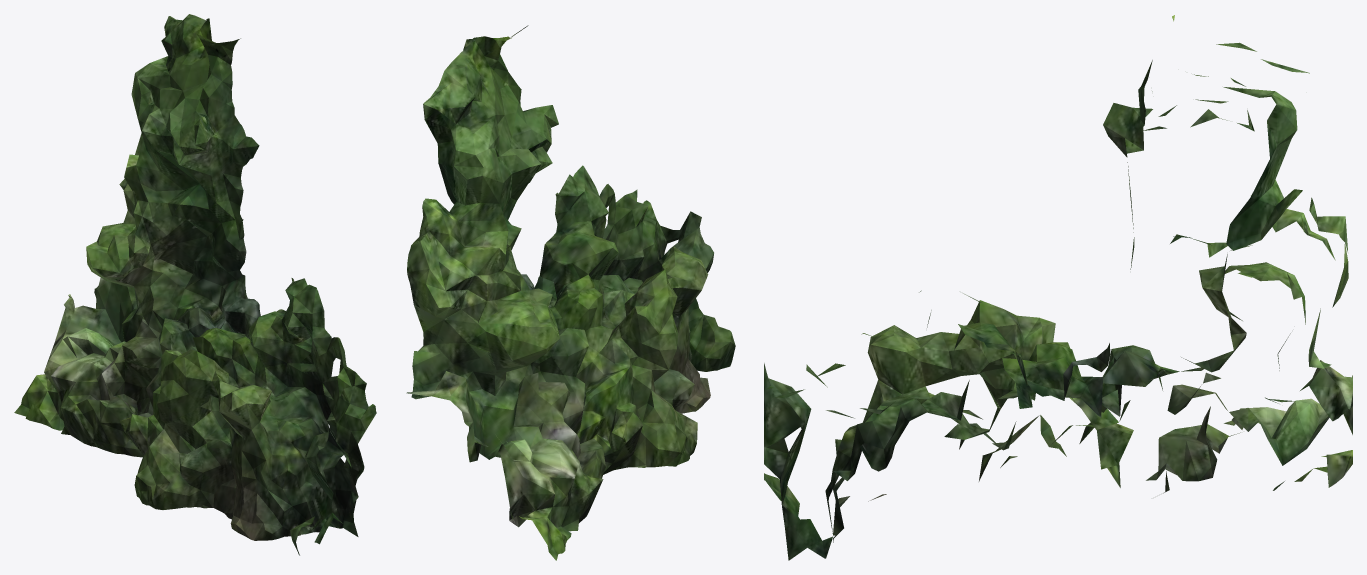
3 renders of one model, left to right at view 1: azimuth 30°, elevation 25°; view 2: azimuth 150°, elevation 25°; view 3: azimuth 270°, elevation 25°, orthographic. The views are drawn at different scales.
Size of the model in its own units: 9.37 by 26.11 by 26.11.
4 materials, 4 textured.
